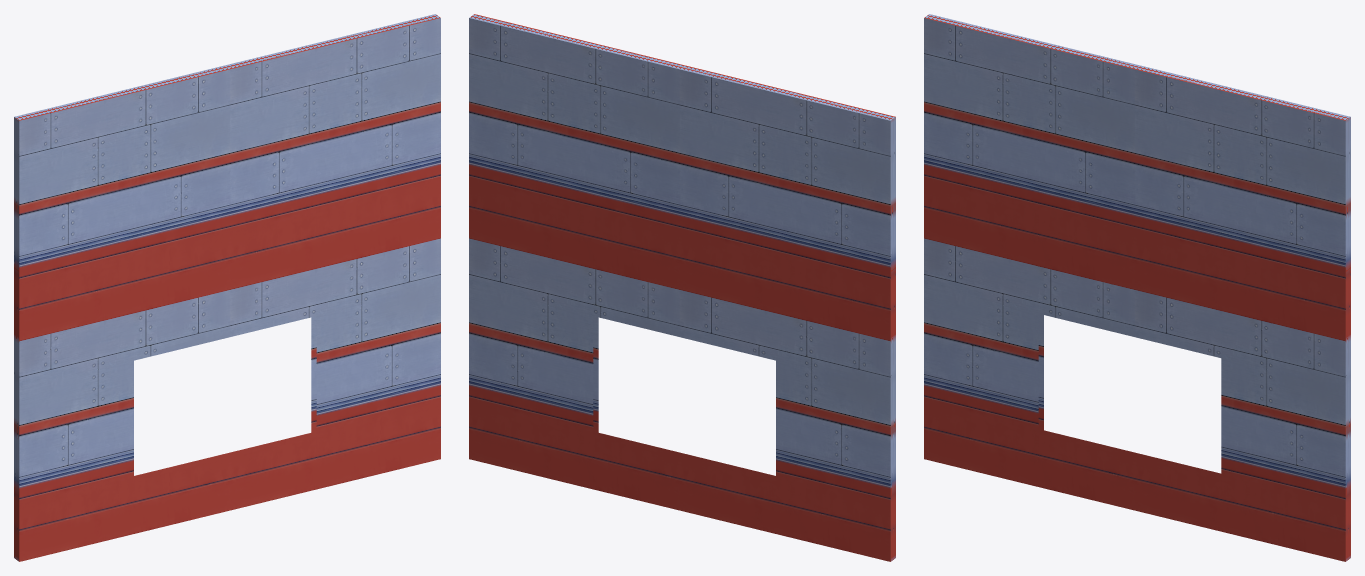
The model's file is WallWithHole.FBX.
3 renders of one model, left to right at view 1: azimuth 30°, elevation 25°; view 2: azimuth 150°, elevation 25°; view 3: azimuth 330°, elevation 25°, orthographic.
Visible parts, largest first — view 1: Box001; view 2: Box001; view 3: Box001.
Part boxes in pixels (x1,y1,x2,y2): Box001: (14,14,440,561); Box001: (469,14,895,561); Box001: (924,14,1350,561).
Bounding box in the file's own units: 900 × 900 × 20.
